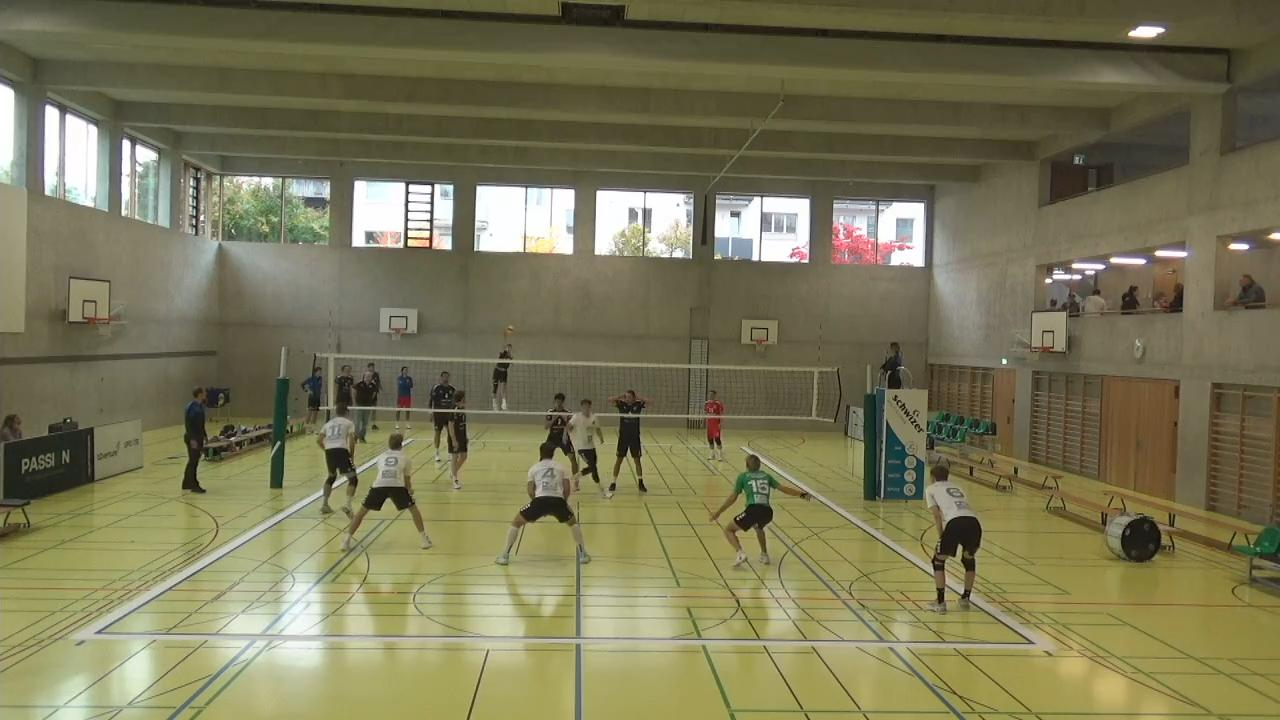Player: (496, 440, 590, 565), (715, 452, 812, 572), (343, 433, 434, 551), (924, 461, 980, 612), (319, 400, 361, 520), (568, 396, 607, 498), (608, 390, 646, 494), (427, 369, 457, 460), (443, 397, 472, 491), (539, 393, 574, 464), (703, 392, 726, 464)
Serve: (489, 328, 515, 416)
ball: (502, 323, 515, 336)
